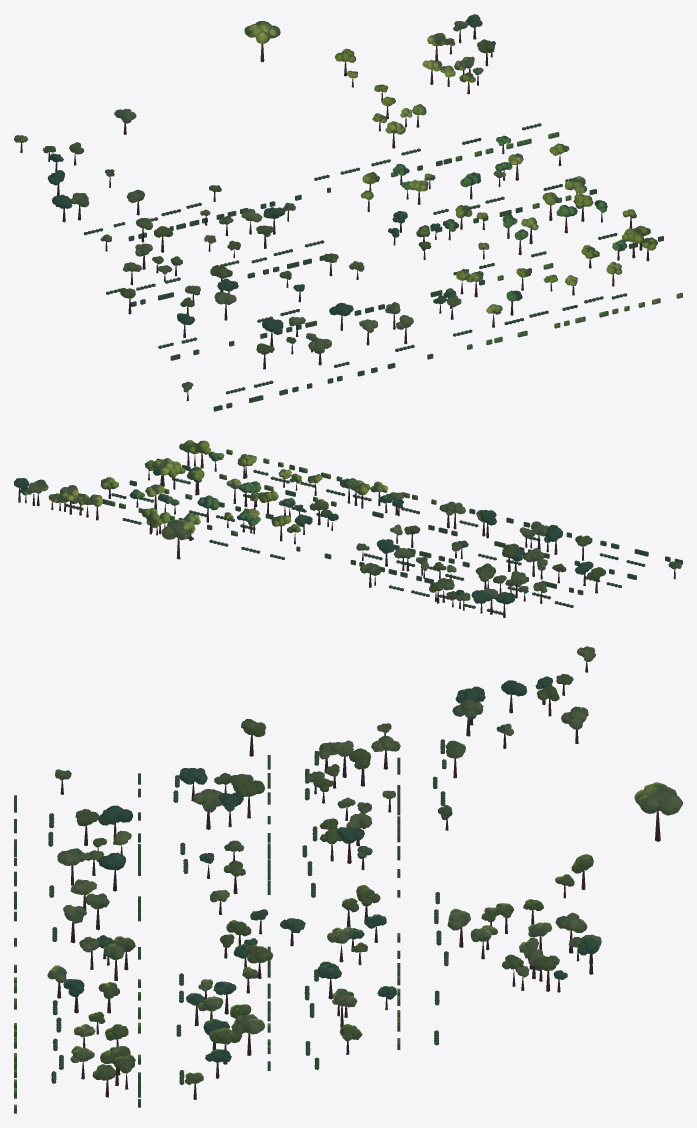
Rendered from trees.glb.
3 views of the same model, one above another, from view 1: azimuth 30°, elevation 25°; view 2: azimuth 150°, elevation 25°; view 3: azimuth 270°, elevation 25° (orthographic). The views are drawn at different scales.
Parts seen in each view (by area): view 1: piece_trees; view 2: piece_trees; view 3: piece_trees.
Boxes of the visible parts, box(x1,y1,x2,y2) form: piece_trees: box(14, 14, 682, 411); piece_trees: box(14, 440, 682, 617); piece_trees: box(14, 646, 682, 1113).
Size of the model in its own units: 186 by 51.72 by 155.
